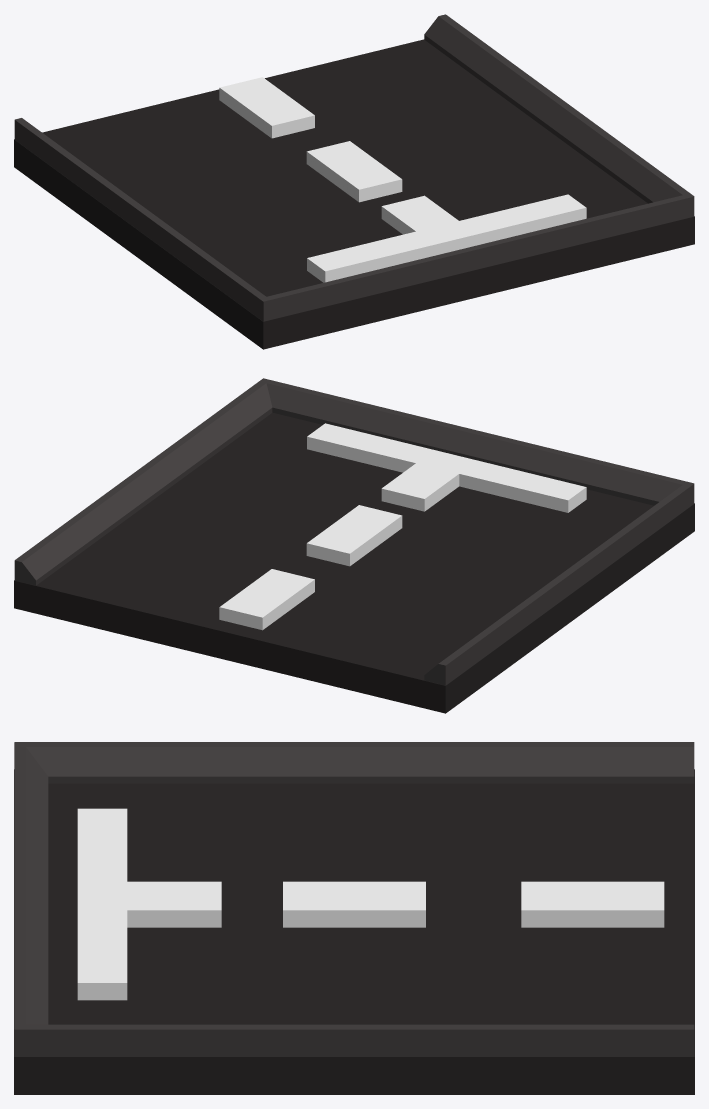
File: road-2oc.obj
The picture shows the model from 3 angles, top to bottom: view 1: azimuth 30°, elevation 25°; view 2: azimuth 150°, elevation 25°; view 3: azimuth 270°, elevation 25°; orthographic projection. The views are drawn at different scales.
Parts seen in each view (by area): view 1: Cube, Cube.006, Cube.004, Cube.007, Cube.005, Cube.002, Cube.003, Cube.001; view 2: Cube, Cube.006, Cube.004, Cube.005, Cube.007, Cube.002, Cube.003, Cube.001; view 3: Cube, Cube.005, Cube.004, Cube.007, Cube.006, Cube.003, Cube.002, Cube.001.
Boxes of the visible parts, left/top/right/bottom form: Cube: left=14, top=39, right=694, bottom=349; Cube.006: left=260, top=194, right=694, bottom=321; Cube.004: left=424, top=14, right=693, bottom=203; Cube.007: left=307, top=194, right=586, bottom=282; Cube.005: left=14, top=118, right=269, bottom=321; Cube.002: left=306, top=141, right=402, bottom=202; Cube.003: left=219, top=77, right=314, bottom=138; Cube.001: left=381, top=195, right=476, bottom=244; Cube: left=14, top=412, right=694, bottom=713; Cube.006: left=262, top=378, right=691, bottom=505; Cube.004: left=14, top=378, right=272, bottom=585; Cube.005: left=424, top=482, right=694, bottom=685; Cube.007: left=307, top=423, right=586, bottom=512; Cube.002: left=306, top=505, right=402, bottom=566; Cube.003: left=219, top=569, right=314, bottom=630; Cube.001: left=381, top=450, right=476, bottom=511; Cube: left=14, top=769, right=694, bottom=1094; Cube.005: left=14, top=742, right=694, bottom=783; Cube.004: left=14, top=1024, right=694, bottom=1056; Cube.007: left=77, top=808, right=127, bottom=1000; Cube.006: left=14, top=742, right=48, bottom=1056; Cube.003: left=521, top=881, right=664, bottom=927; Cube.002: left=283, top=881, right=425, bottom=927; Cube.001: left=79, top=881, right=221, bottom=927.
Bounding box in the file's own units: 1 × 0.1057 × 1.
1 material, 1 textured.
